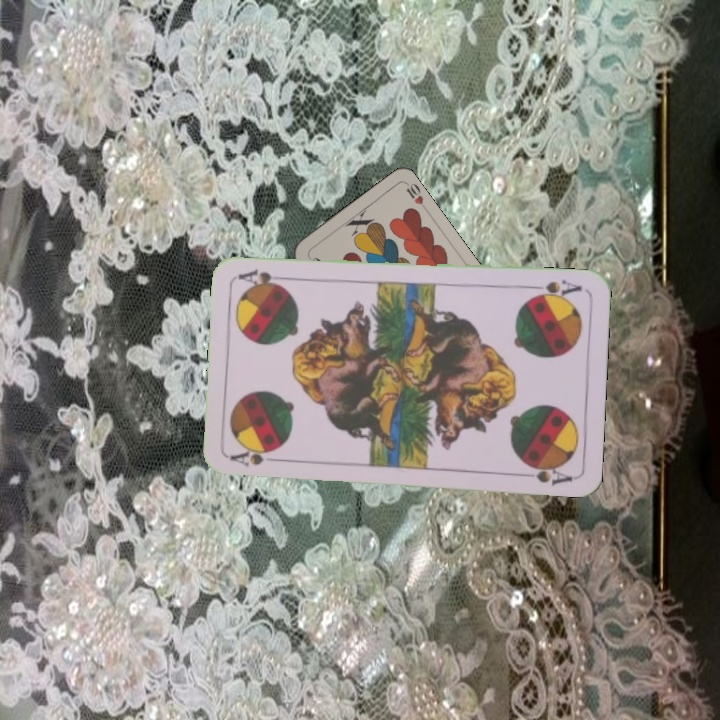SA: (526, 276, 585, 302), (227, 446, 286, 469)
